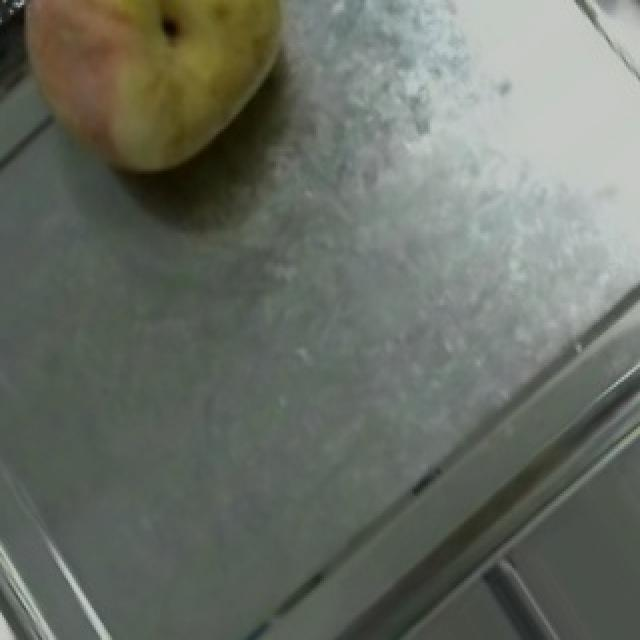Fruit: (0, 0, 310, 218)
